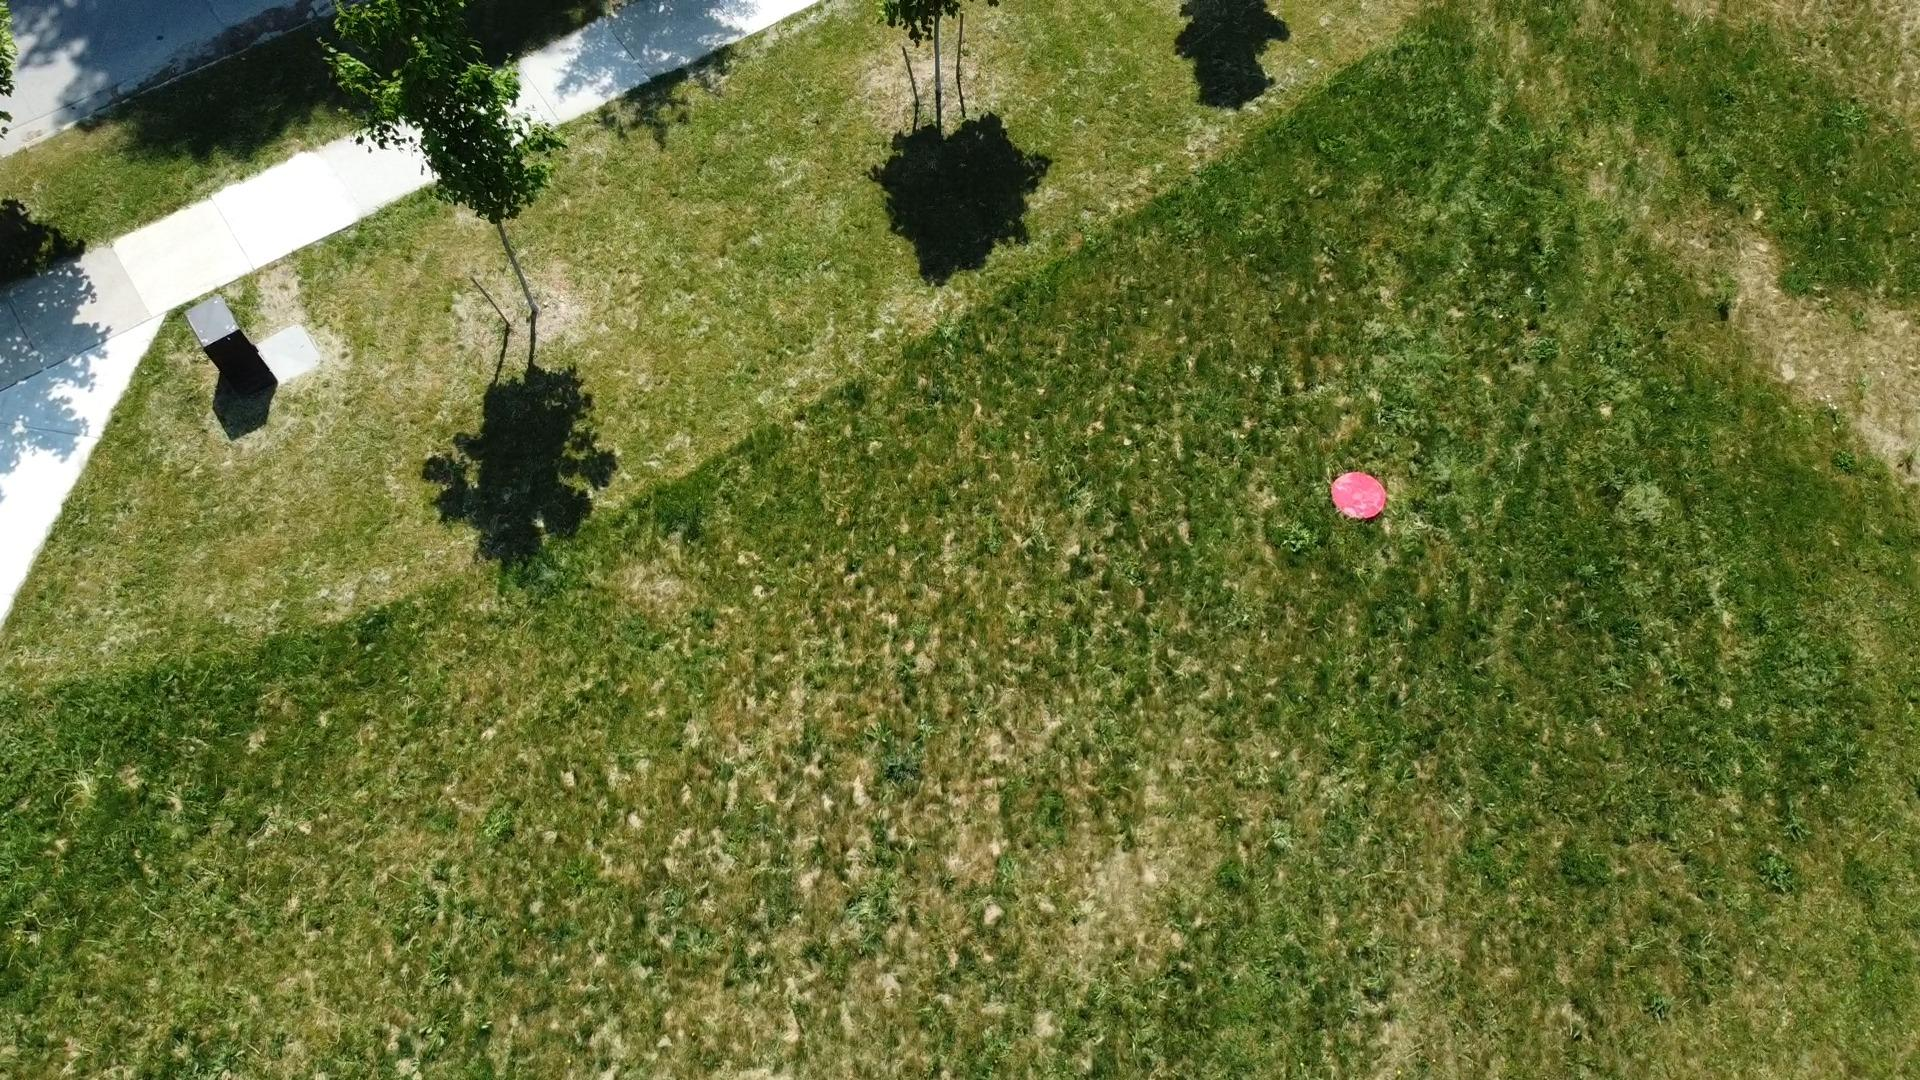Red: (1328, 468, 1391, 525)
